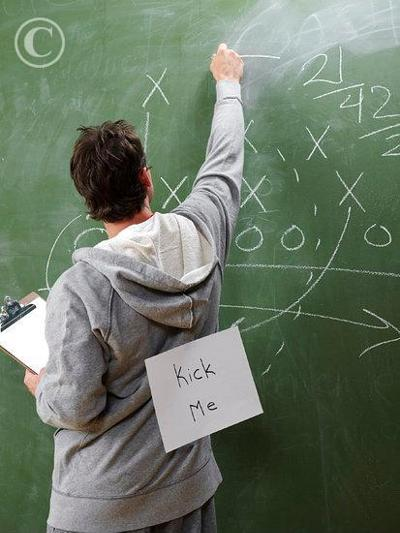person: (25, 46, 247, 533)
